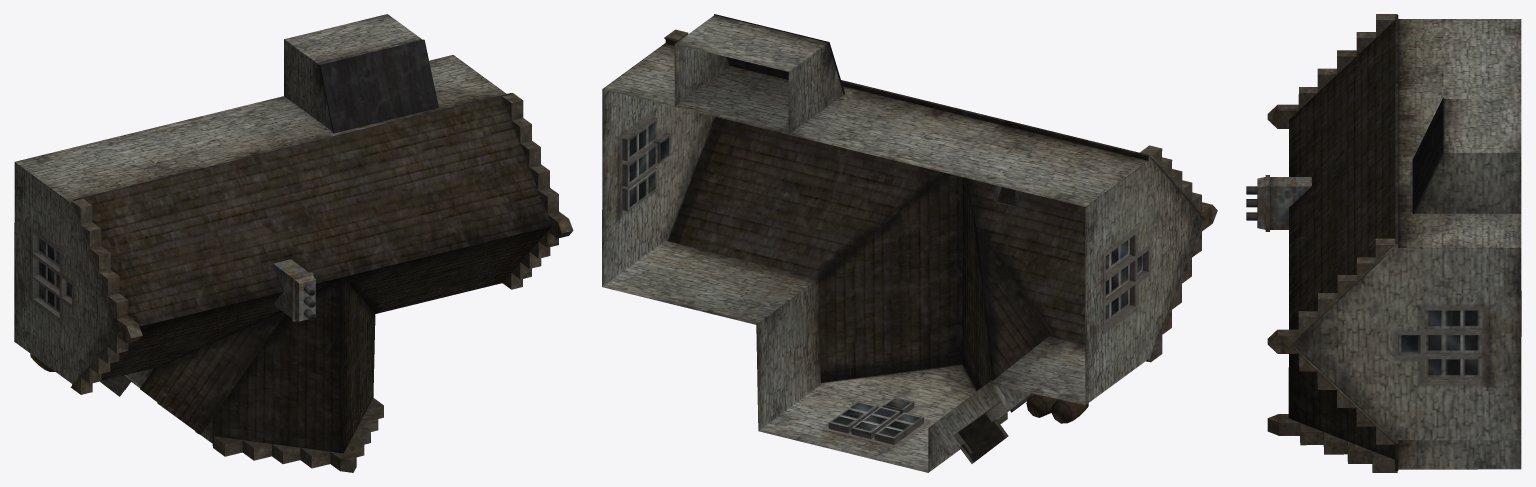
Rendered from house_obj.obj.
3 renders of one model, left to right at view 1: azimuth 30°, elevation 25°; view 2: azimuth 150°, elevation 25°; view 3: azimuth 270°, elevation 25°, orthographic. The views are drawn at different scales.
Visible parts, largest first — view 1: Mesh_House; view 2: Mesh_House; view 3: Mesh_House.
Boxes of the visible parts, x1=… form: Mesh_House: x1=14, y1=14, x2=573, y2=472; Mesh_House: x1=602, y1=14, x2=1217, y2=472; Mesh_House: x1=1246, y1=14, x2=1521, y2=472.
Bounding box in the file's own units: 14.46 × 10.48 × 7.28.
Materials: 1 (1 with a texture image).
